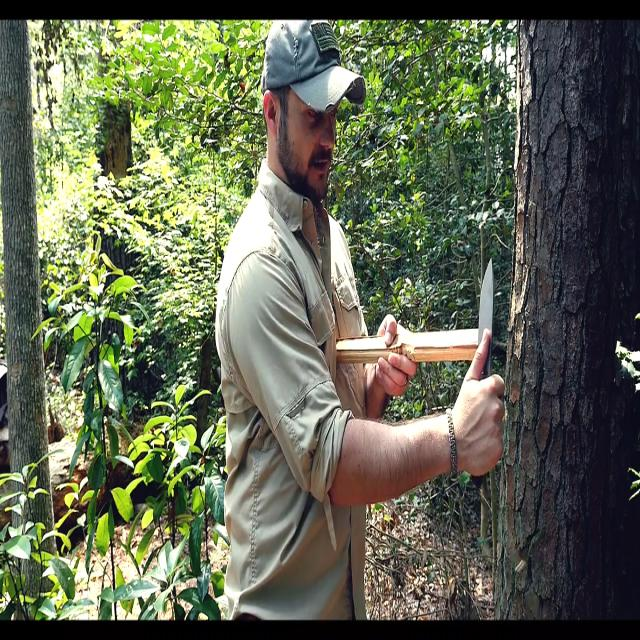knife: (477, 255, 497, 380)
